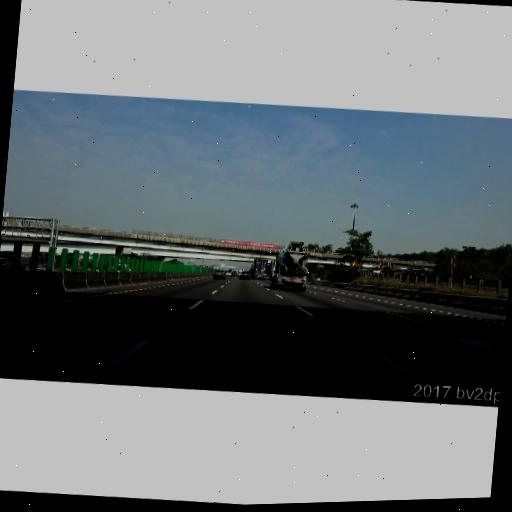Car: (268, 239, 310, 294), (401, 267, 431, 285), (252, 259, 268, 281), (213, 269, 226, 280), (371, 267, 383, 276), (383, 266, 396, 274), (240, 271, 251, 280), (238, 268, 244, 277), (225, 270, 232, 277)
